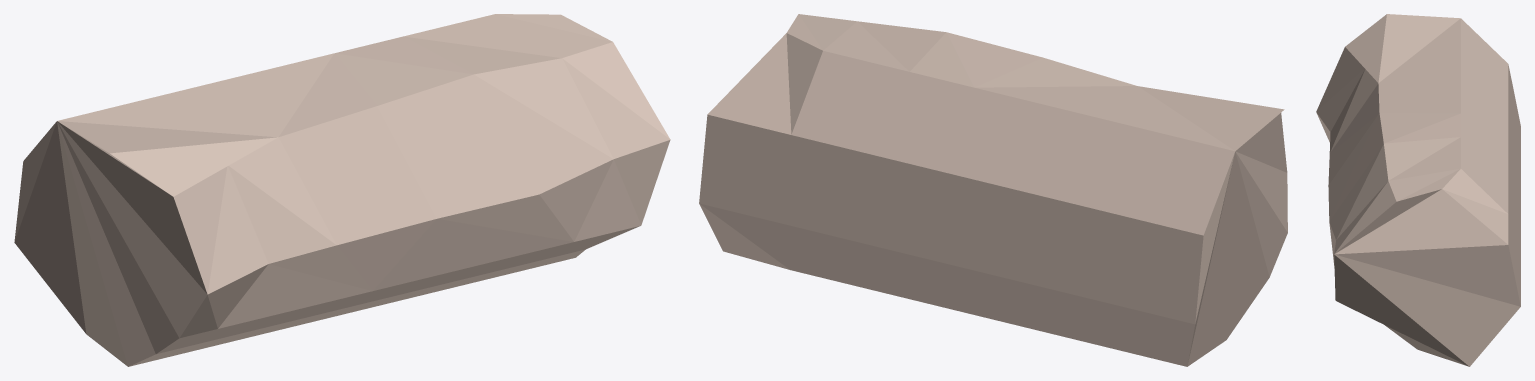
Rendered from LThumb0thPhalange.dae.
3 views of the same model, side by side, from view 1: azimuth 30°, elevation 25°; view 2: azimuth 150°, elevation 25°; view 3: azimuth 270°, elevation 25° (orthographic). The views are drawn at different scales.
Parts seen in each view (by area): view 1: ShapeIndexedFaceSet; view 2: ShapeIndexedFaceSet; view 3: ShapeIndexedFaceSet.
Part boxes in pixels (bbox=[...]): ShapeIndexedFaceSet: bbox=[14, 14, 670, 366]; ShapeIndexedFaceSet: bbox=[699, 14, 1287, 366]; ShapeIndexedFaceSet: bbox=[1316, 14, 1520, 366].
Bounding box in the file's own units: 0.0515 × 0.0241 × 0.0219.
